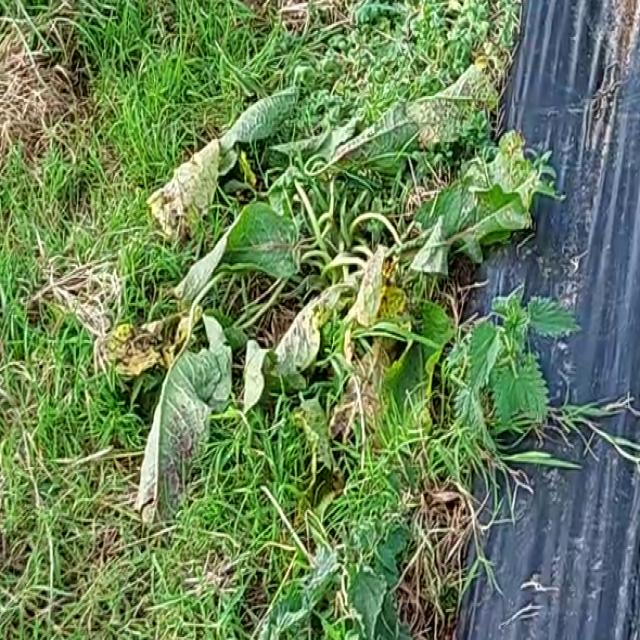organic waste: (127, 79, 505, 502)
